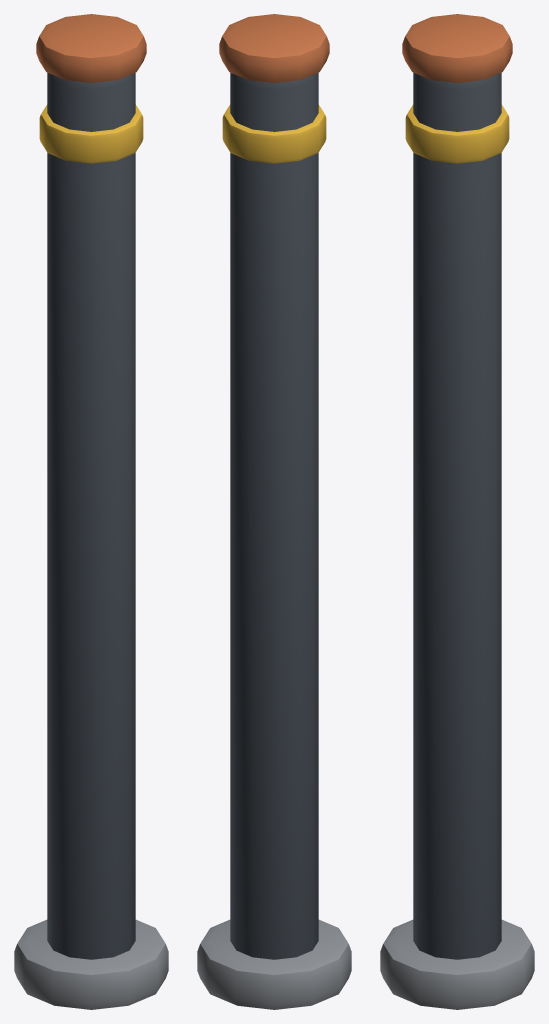
File: fence-pipe-post.glb
The picture shows the model from 3 angles, left to right: view 1: azimuth 30°, elevation 25°; view 2: azimuth 150°, elevation 25°; view 3: azimuth 270°, elevation 25°; orthographic projection.
Visible parts, largest first — view 1: post; view 2: post; view 3: post.
Boxes of the visible parts, box(x1,y1,x2,y2) form: post: box(14, 14, 168, 1009); post: box(197, 14, 351, 1009); post: box(380, 14, 534, 1009).
Bounding box in the file's own units: 0.14 × 0.95 × 0.14.
